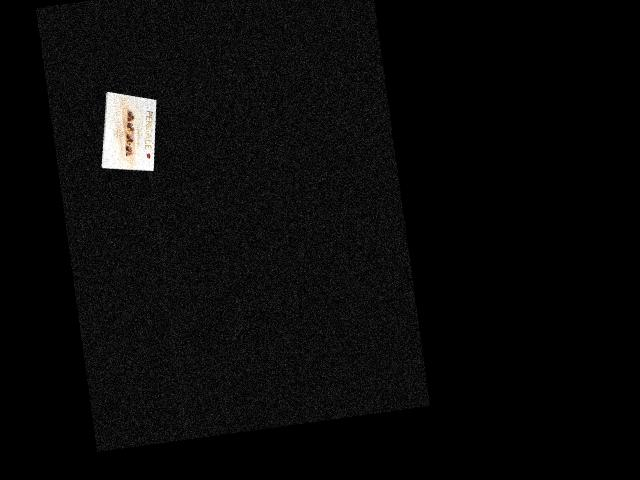chocolate: (89, 89, 164, 175)
